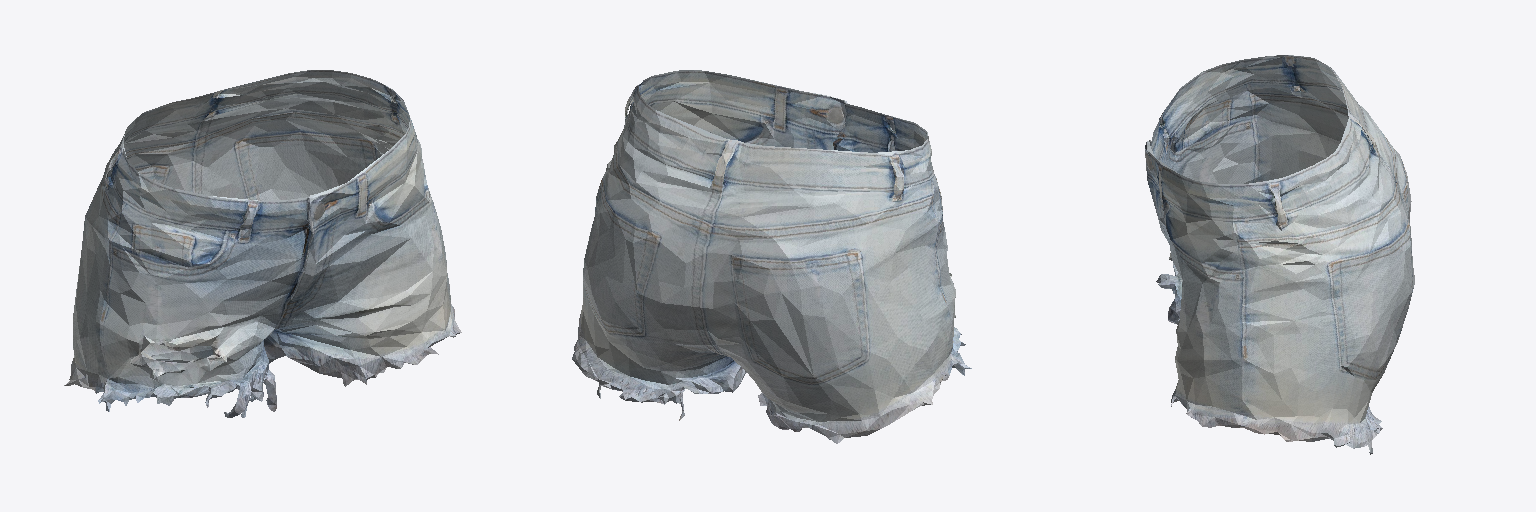
The picture shows the model from 3 angles: view 1: azimuth 30°, elevation 25°; view 2: azimuth 150°, elevation 25°; view 3: azimuth 270°, elevation 25°; orthographic projection.
Parts seen in each view (by area): view 1: shortik; view 2: shortik; view 3: shortik.
Part boxes in pixels (x1,y1,x2,y2): shortik: (64,70,461,417); shortik: (572,70,971,443); shortik: (1145,55,1414,454).
Size of the model in its own units: 0.4104 by 0.3173 by 0.2666.
Materials: 1 (1 with a texture image).